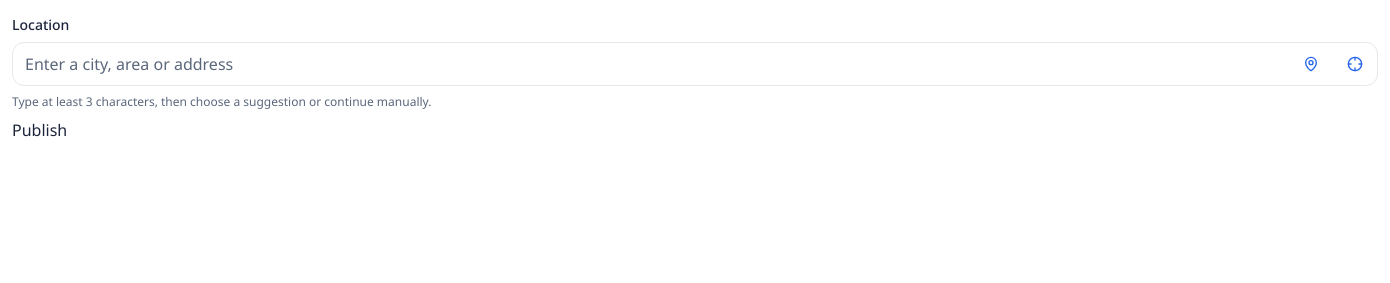
supports pointer selection and closes suggestions after selecting a location
Type "Ath" into the dropdown at (695, 64), box [12,42,1378,86]
Wait 350 ms
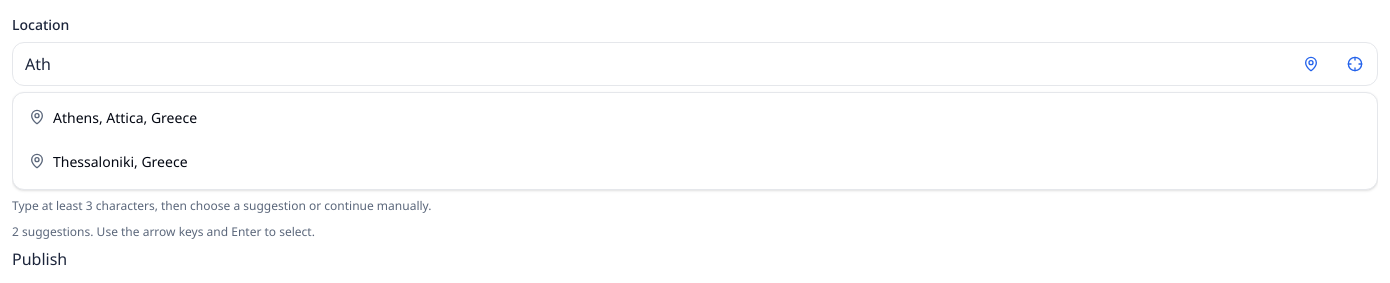
Click the option "Thessaloniki, Greece" at (120, 162), box [17,141,1373,185]
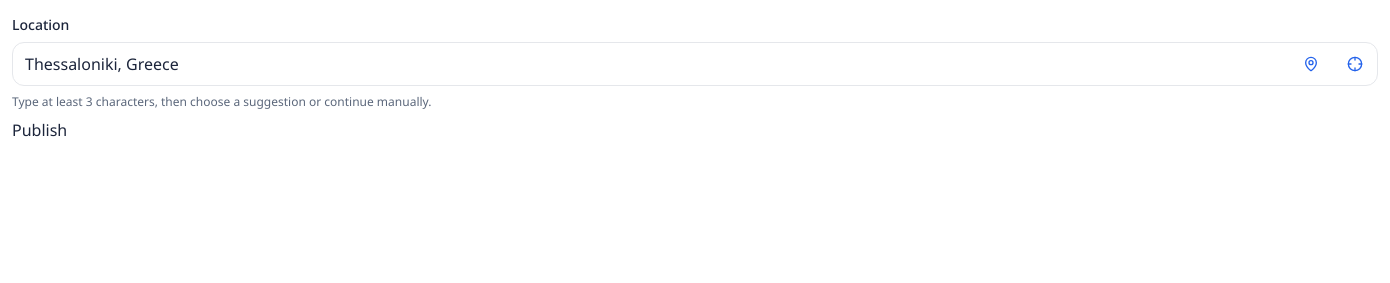
Expected: the dropdown holds "Thessaloniki, Greece", [12,42,1378,86]
Expected: the list is gone
